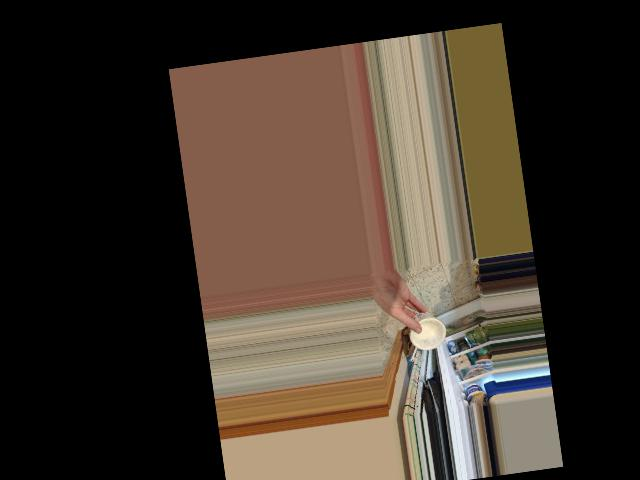cotage: (405, 310, 441, 354)
